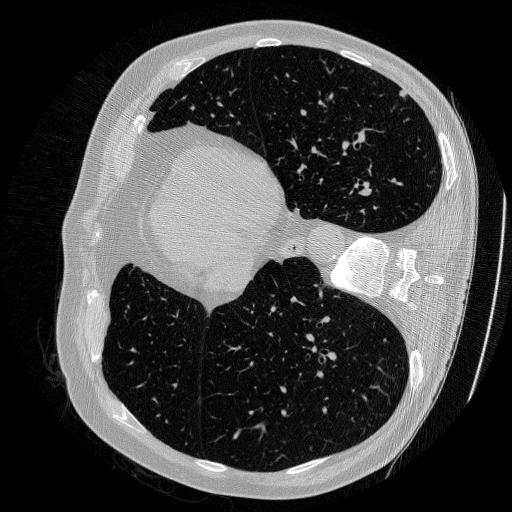nodule: (395, 87, 410, 102)
